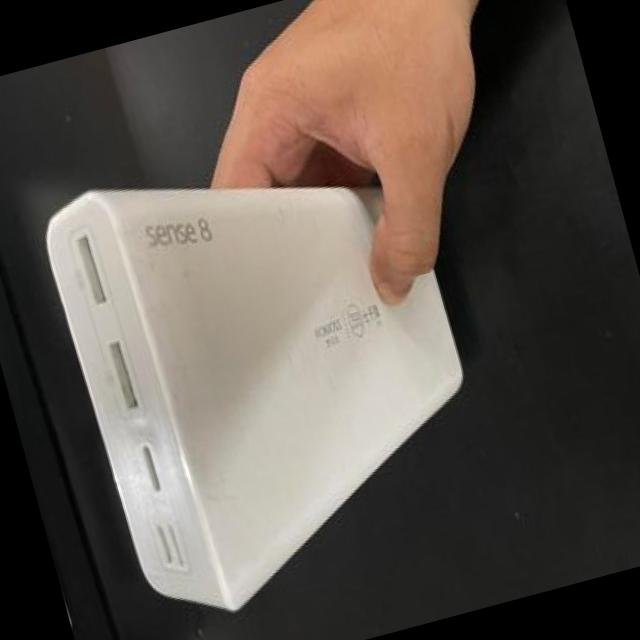power_bank: (15, 73, 520, 640)
